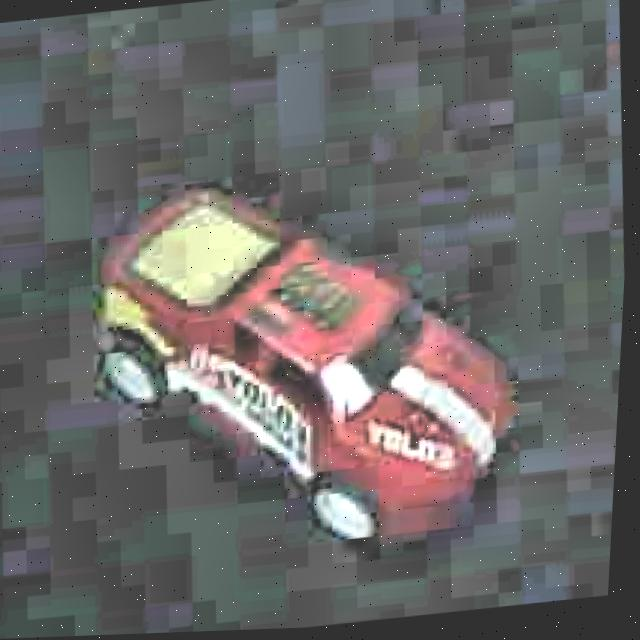car: (68, 150, 534, 570)
